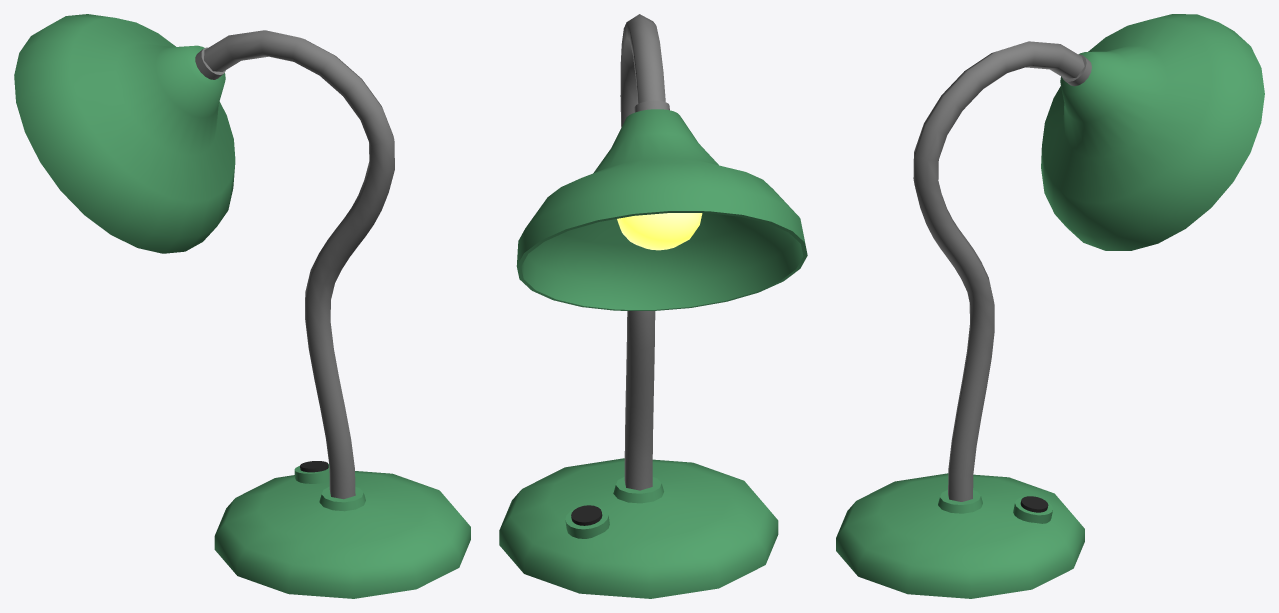
File: Desk_Lamp_Bendy.fbx
3 views of the same model, side by side, from view 1: azimuth 30°, elevation 25°; view 2: azimuth 150°, elevation 25°; view 3: azimuth 270°, elevation 25° (orthographic). The views are drawn at different scales.
Visible parts, largest first — view 1: Desk_Lamp_Bendy_LOD0; view 2: Desk_Lamp_Bendy_LOD0; view 3: Desk_Lamp_Bendy_LOD0.
Boxes of the visible parts, box(x1,y1,x2,y2) form: Desk_Lamp_Bendy_LOD0: box(14, 14, 470, 598); Desk_Lamp_Bendy_LOD0: box(499, 14, 807, 598); Desk_Lamp_Bendy_LOD0: box(836, 14, 1264, 598).
Size of what is drawn, in the model's own units: 29.14 by 40.81 by 32.72.
